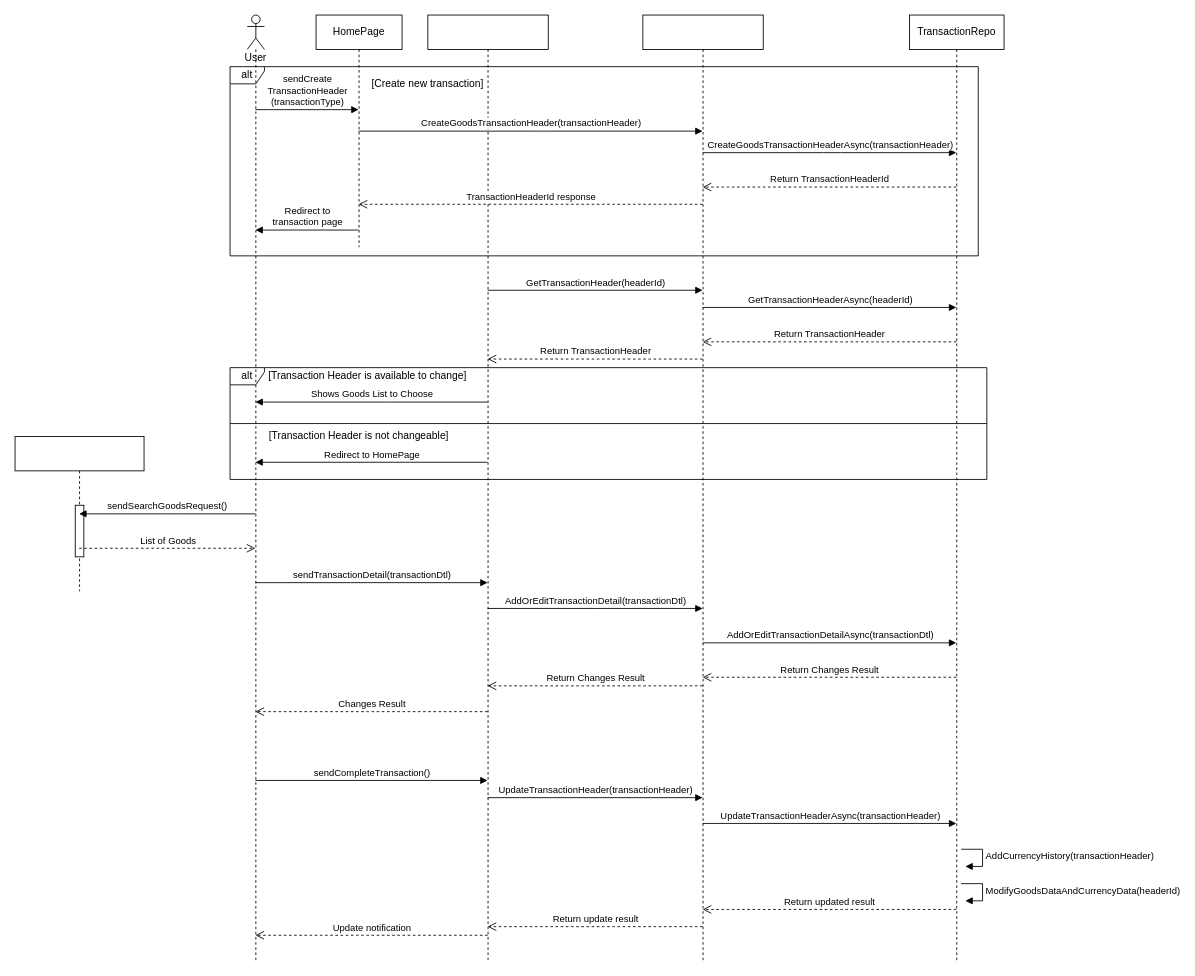
Image size: 1195x976. Some labels were removed from this diagram. Each missing label, with the box of its shape:
GoodsTransactionPage: (427, 14, 548, 961)
SearchGoodsComponent: (14, 436, 144, 591)
TransactionController: (642, 14, 763, 961)
